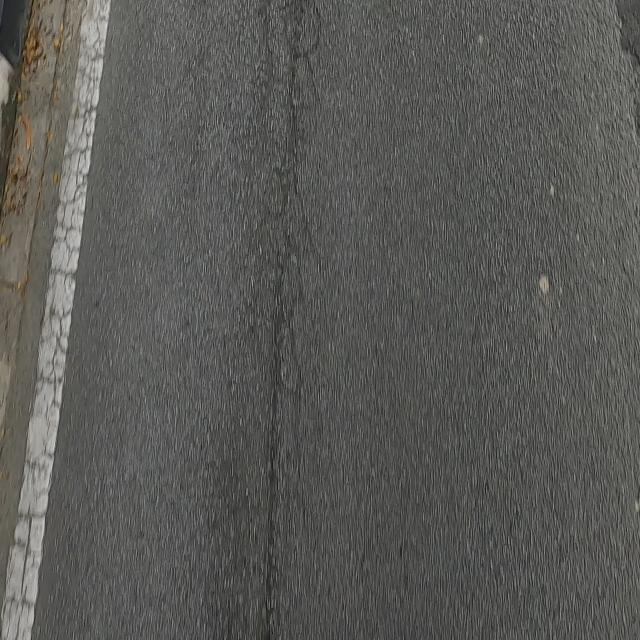Retak-Buaya: (5, 0, 110, 603)
Retak-Memanjang: (259, 36, 301, 640)
